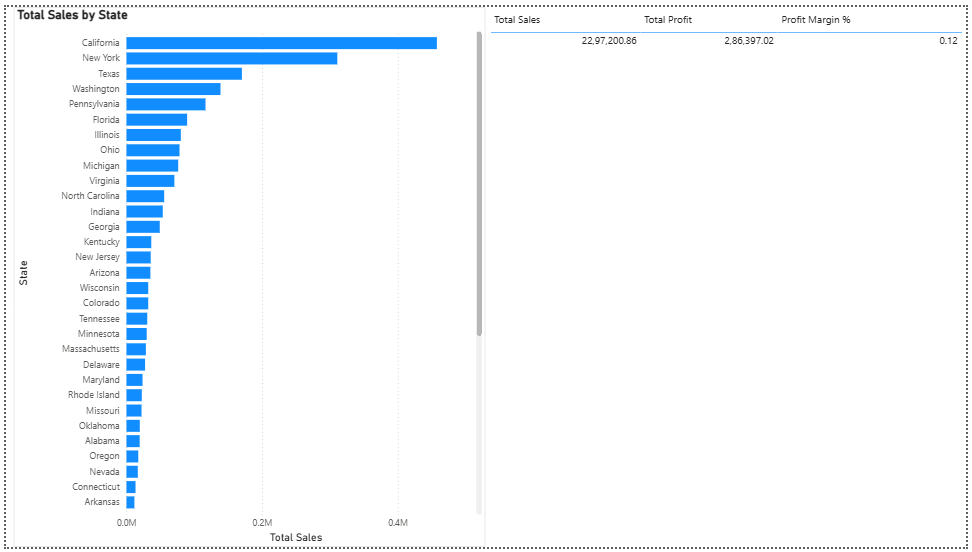

The page's visual inventory and layout, read from the dashboard file:
{"tool":"powerbi","page":{"name":"Regional Analysis","canvas":[1280,720],"ordinal":2},"visuals":[{"type":"barChart","fields":{"Category":["SampleSuperstore.State"],"Y":["Measure.Total Sales"]},"box":[10,0,630,720],"z":0},{"type":"tableEx","fields":{"Values":["Measure.Total Sales","Measure.Total Profit","Measure.Profit Margin %"]},"box":[640,0,640,720],"z":1000}]}

Visuals, with their boxes in screenshot pixels (x1, y1, x2, y2), scaled from the page's 1280x720 canvas onto the 972x552 screenshot:
barChart - SampleSuperstore.State x Measure.Total Sales: <region>8, 0, 486, 551</region>
tableEx - Measure.Total Sales x Measure.Total Profit: <region>486, 0, 971, 551</region>
